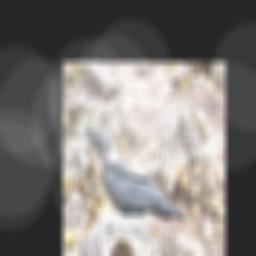Crow: (85, 127, 186, 223)
